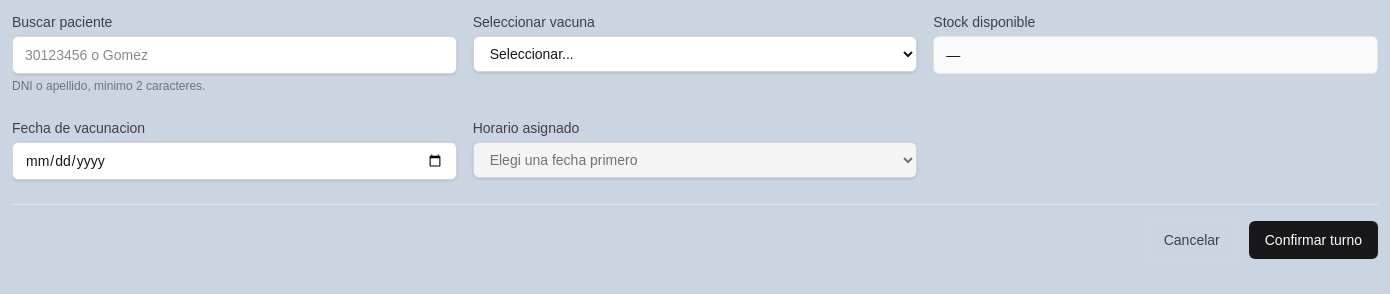
SIG-MEJ-04.1/04.3: disponibilidad del formulario › refresca los horarios cuando el servidor rechaza una selección ocupada
The width and height of the screenshot is (1390, 294).
Type "2040-10-16" into the date field labelled "Fecha de vacunacion" at (234, 161), box [12, 142, 457, 180]
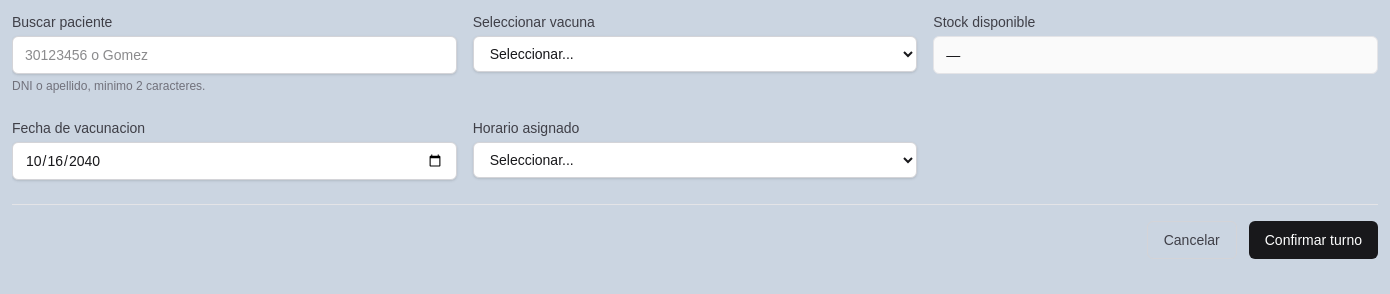
Select "10:00" in the dropdown labelled "Horario asignado" at (695, 160), box [473, 142, 917, 178]
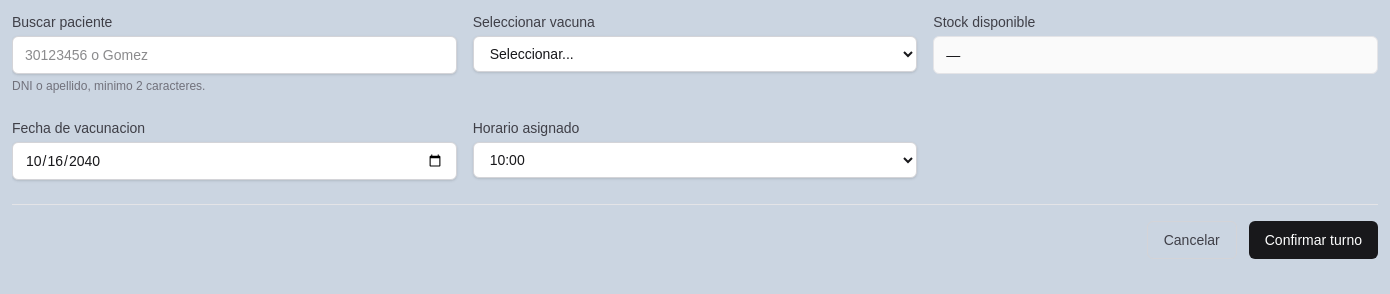
Click the button "Confirmar turno" at (1313, 240), box [1249, 221, 1378, 259]
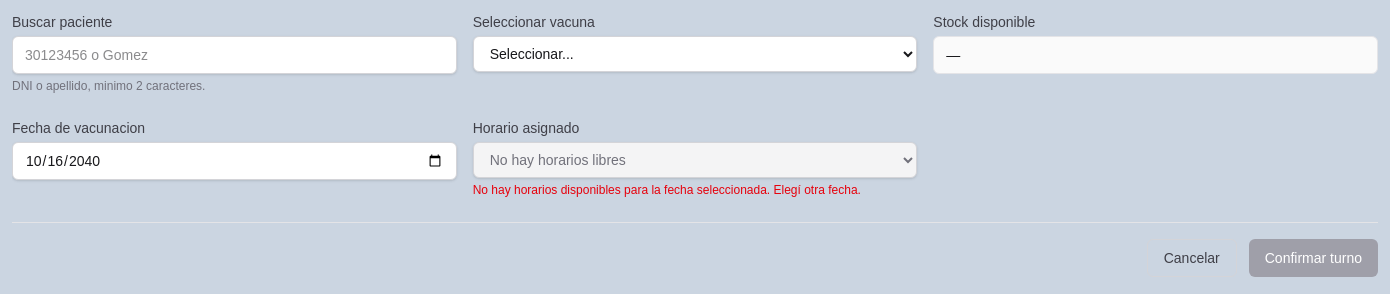
Check: the dropdown labelled "Horario asignado" is disabled, box [473, 142, 917, 178]
Check: the text "No hay horarios disponibles para la fecha seleccionada. Elegí otra fecha." is shown once, box [473, 182, 917, 198]
